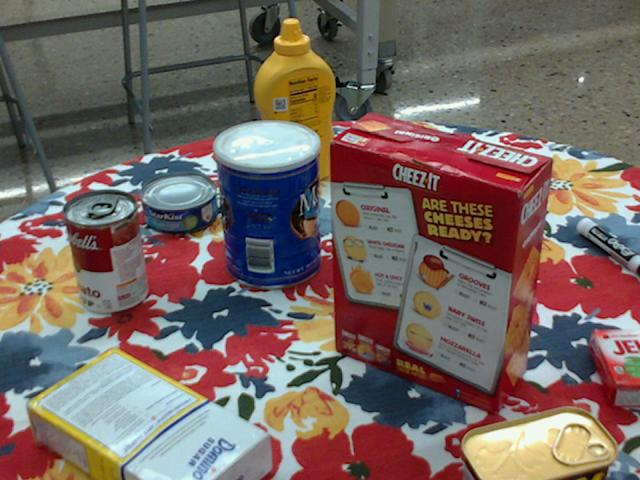cracker_box: (330, 116, 551, 417)
gelatin_box: (585, 331, 639, 407)
large_marker: (574, 221, 639, 281)
master_chef_can: (214, 121, 320, 290)
mug: (405, 143, 487, 229)
mustard_bottle: (255, 23, 338, 190)
potted_meat_can: (459, 405, 614, 479)
sugar_box: (26, 348, 270, 479)
tomato_soup_can: (65, 188, 147, 313)
tuna_fish_can: (141, 174, 219, 234)
